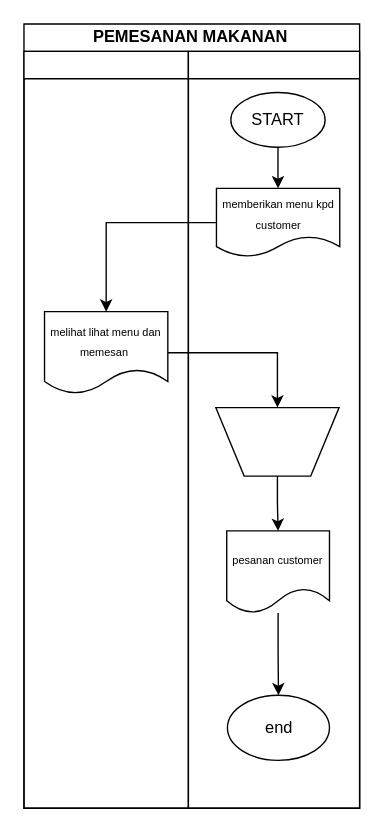
The diagram is 384 pixels wide and 833 high, and some of its shapes have lost their labels. The shapes that lost their labels are listed below. From the top down, each one's box as (x1, y1, x2, y2) in pixels, then its label:
(23, 50, 188, 808): COSTUMER
(187, 50, 360, 808): WAITERS
(214, 406, 339, 476): menulis pesanan customer
